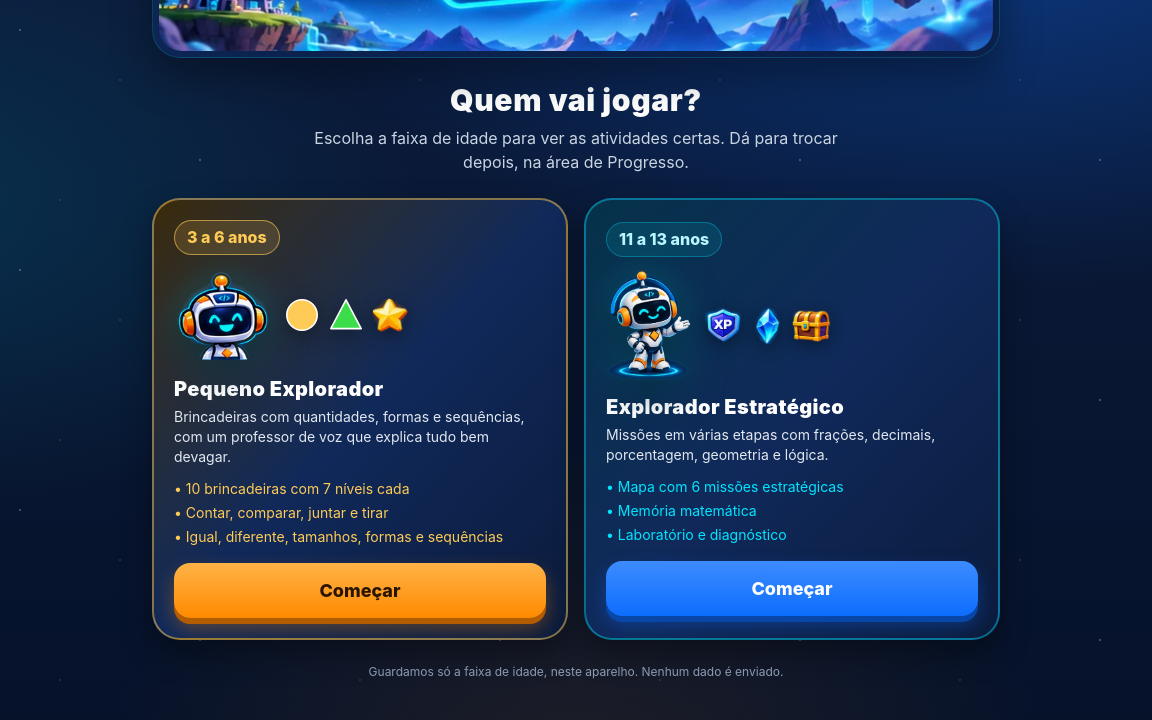
Test: age profile gate › opens the 3–6 activities and remembers the choice
(page scrolled)
Click the button with aria-label "Pequeno Explorador, 3 a 6 anos". click: point(360, 419)
box: 152,198 -> 568,640
(page scrolled)
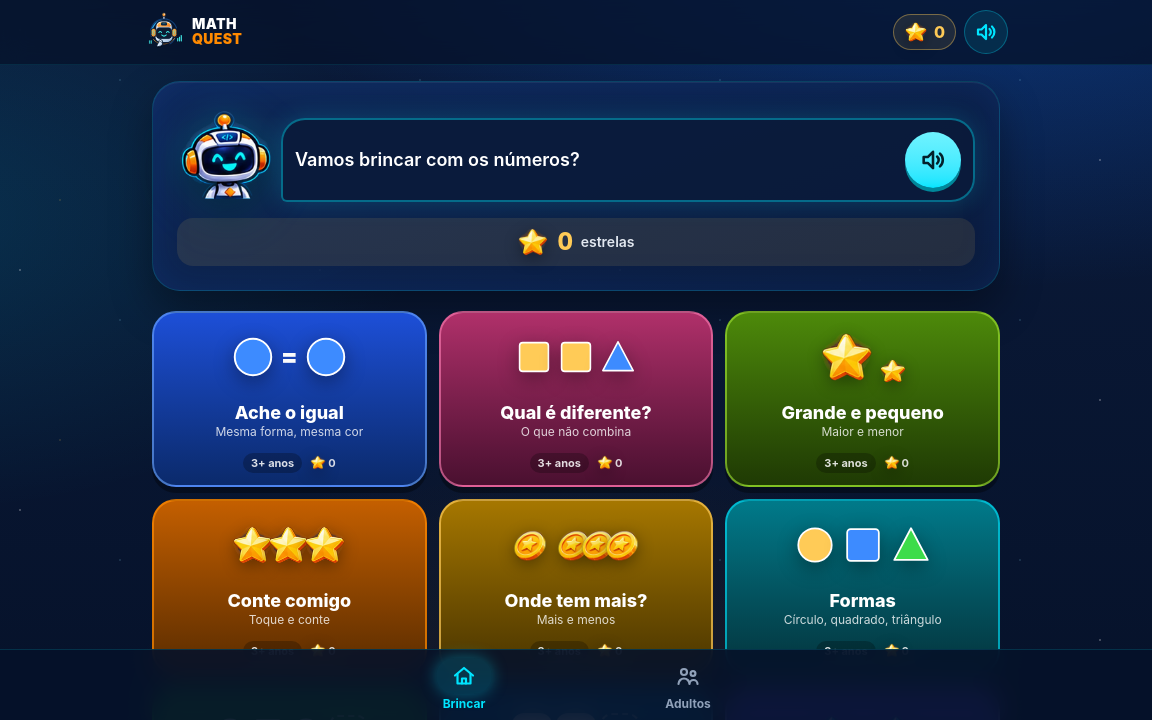
Expected: the text "Oi! Eu sou o Robô" is shown, 295,149 -> 580,170
Expected: the heading "jogar" is gone
